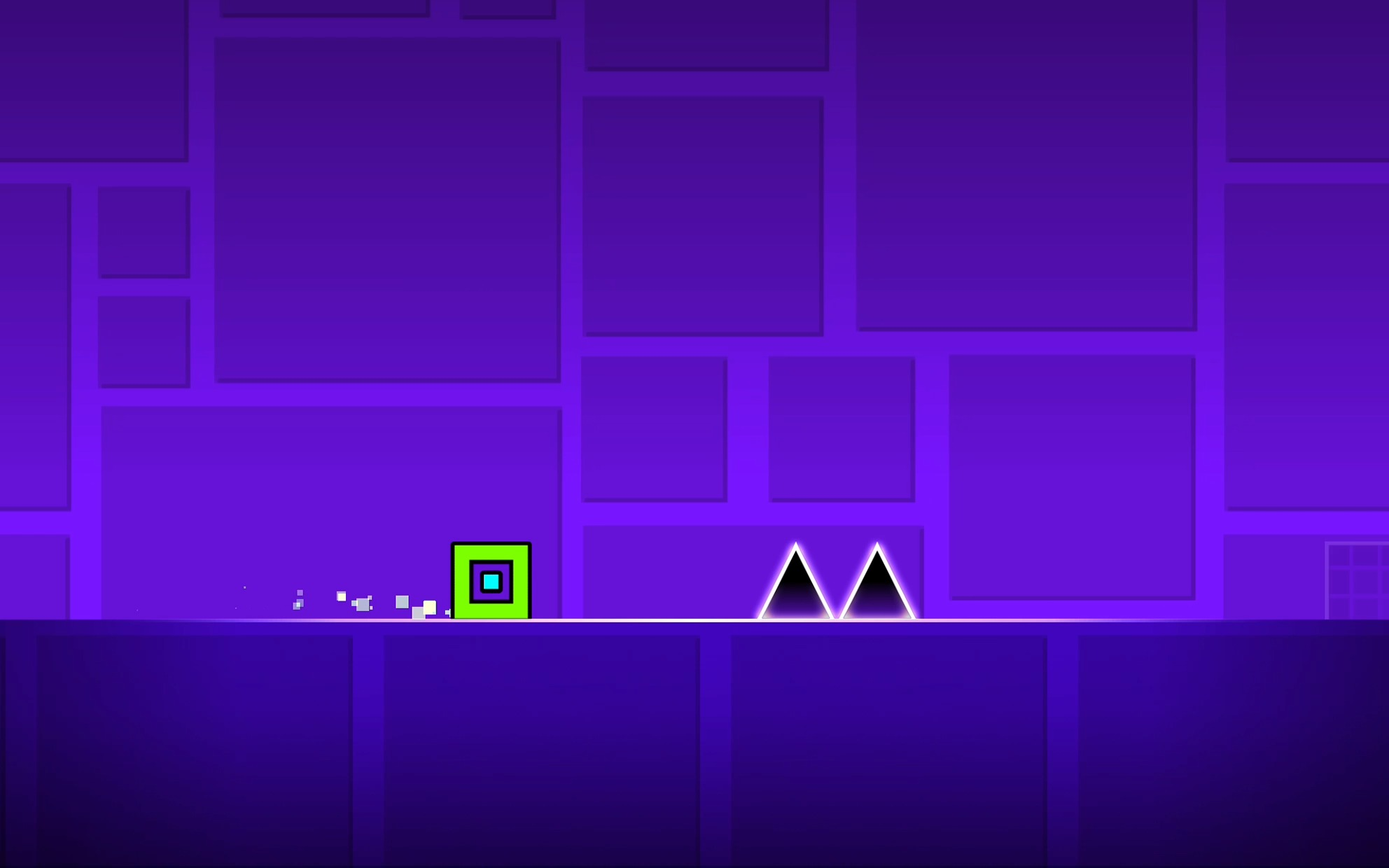Player: (450, 542, 532, 618)
Spike: (838, 543, 915, 619), (758, 543, 833, 619)
